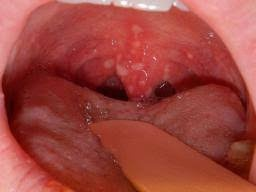Ulcer: (105, 59, 146, 76)
